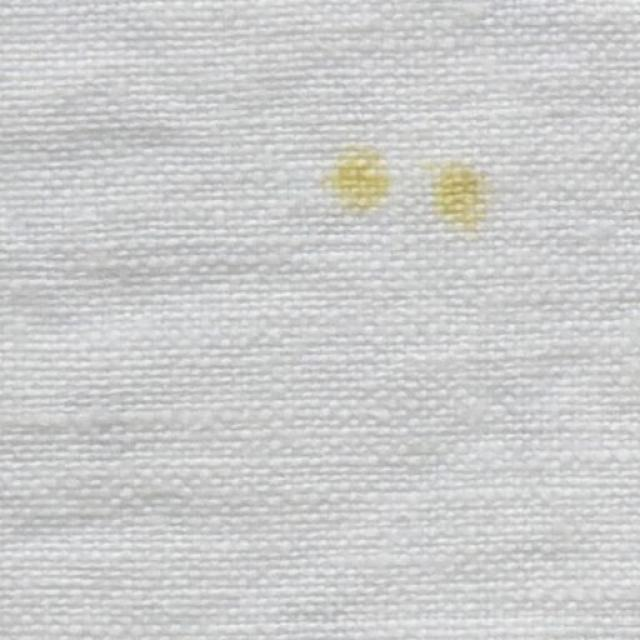Stain: (326, 148, 391, 211), (436, 159, 488, 236)
